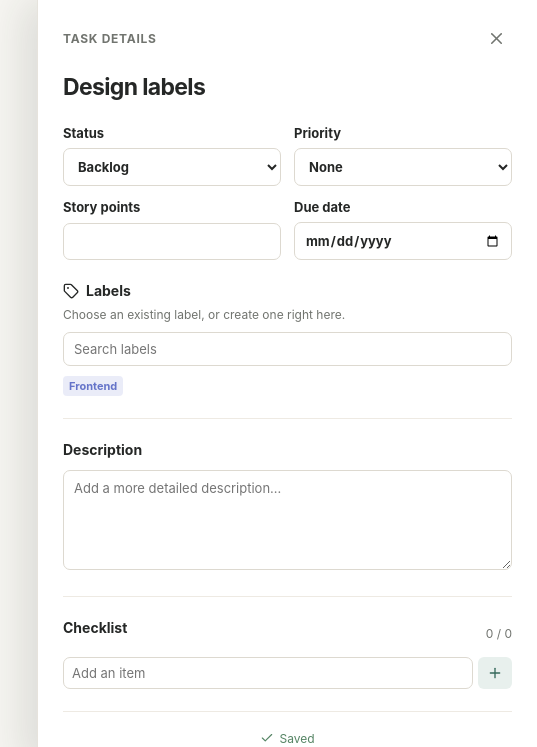
Test: TaskDrawer labels › uses visible in-drawer suggestions instead of a browser datalist
The width and height of the screenshot is (537, 747).
Type "Front" into the field labelled "Search labels".
click(288, 349); type("Front")  # box top-left (63, 332), bottom-right (512, 366)
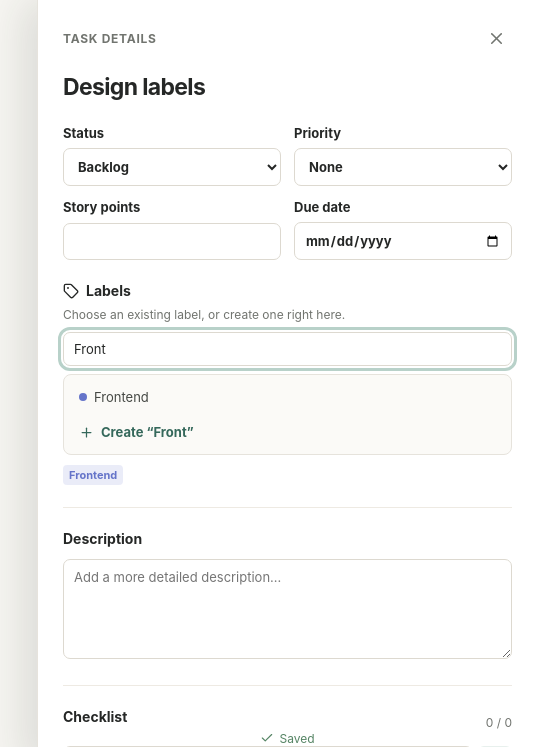
Expected: the 1st button "Frontend" is shown, top-left (71, 382), bottom-right (504, 412)
